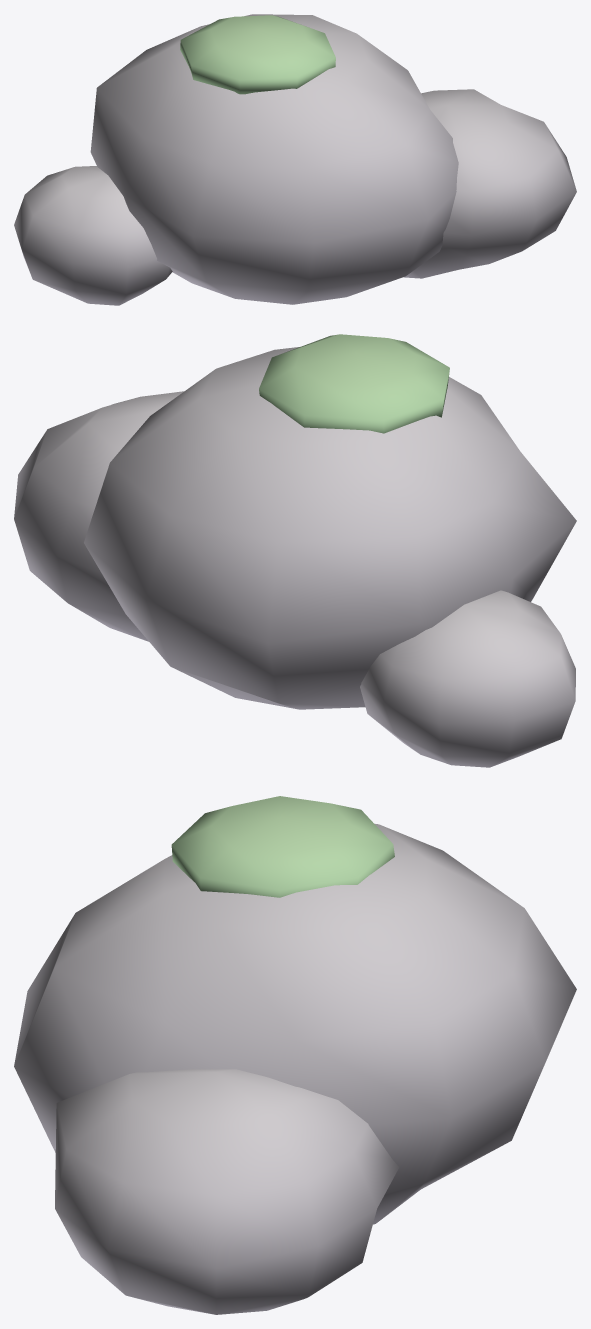
File: rock.glb
The picture shows the model from 3 angles, top to bottom: view 1: azimuth 30°, elevation 25°; view 2: azimuth 150°, elevation 25°; view 3: azimuth 270°, elevation 25°; orthographic projection. The views are drawn at different scales.
Visible parts, largest first — view 1: Body; view 2: Body; view 3: Body.
Part boxes in pixels (left/top/right/bottom): Body: left=14, top=14, right=576, bottom=305; Body: left=14, top=334, right=576, bottom=767; Body: left=14, top=796, right=576, bottom=1314.
Bounding box in the file's own units: 5.01 × 2.55 × 3.54.
